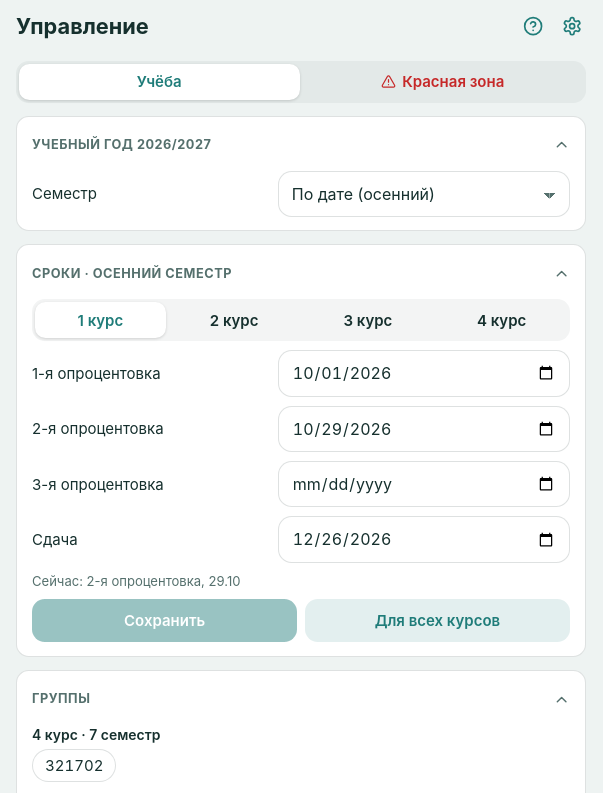
Test: администратор › разделы сворачиваются, и это запоминается
The width and height of the screenshot is (603, 793).
Click the button "Сроки · осенний семестр" at (132, 273), box [32,259,570,289]
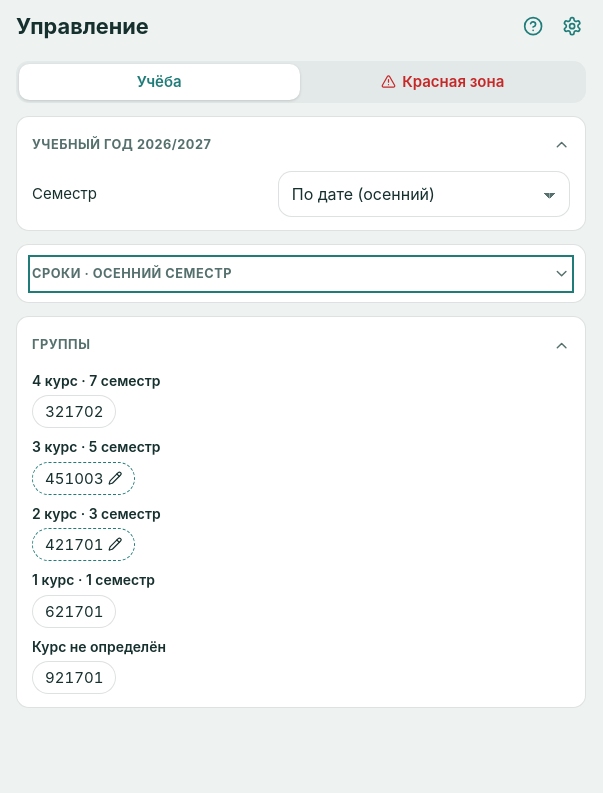
Expected: the button "Сроки · осенний семестр" is collapsed, [32,259,570,289]
Note: В свёрнутом разделе семестра — коротко, какой он сейчас.
Click the button "Учебный год 2026/2027" at (122, 145), box [32,130,570,160]
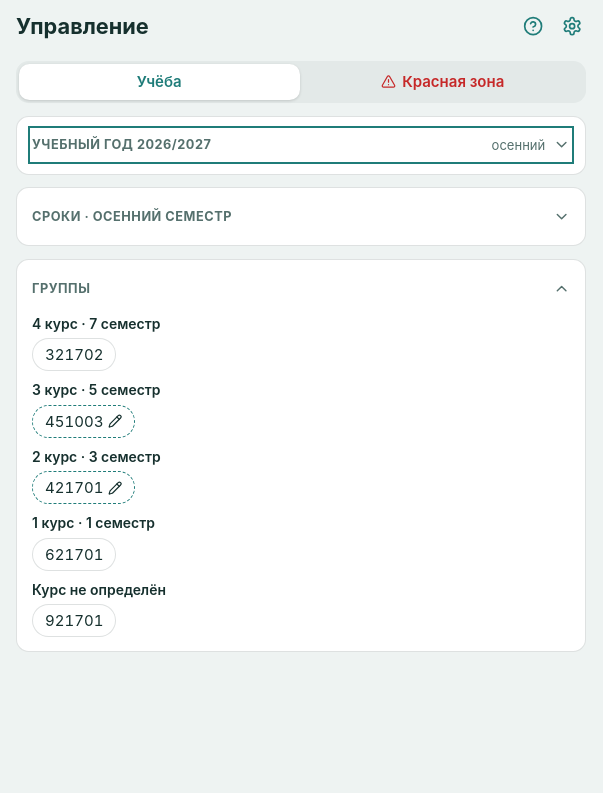
Expected: the text "осенний" is shown, [492,137,545,153]
